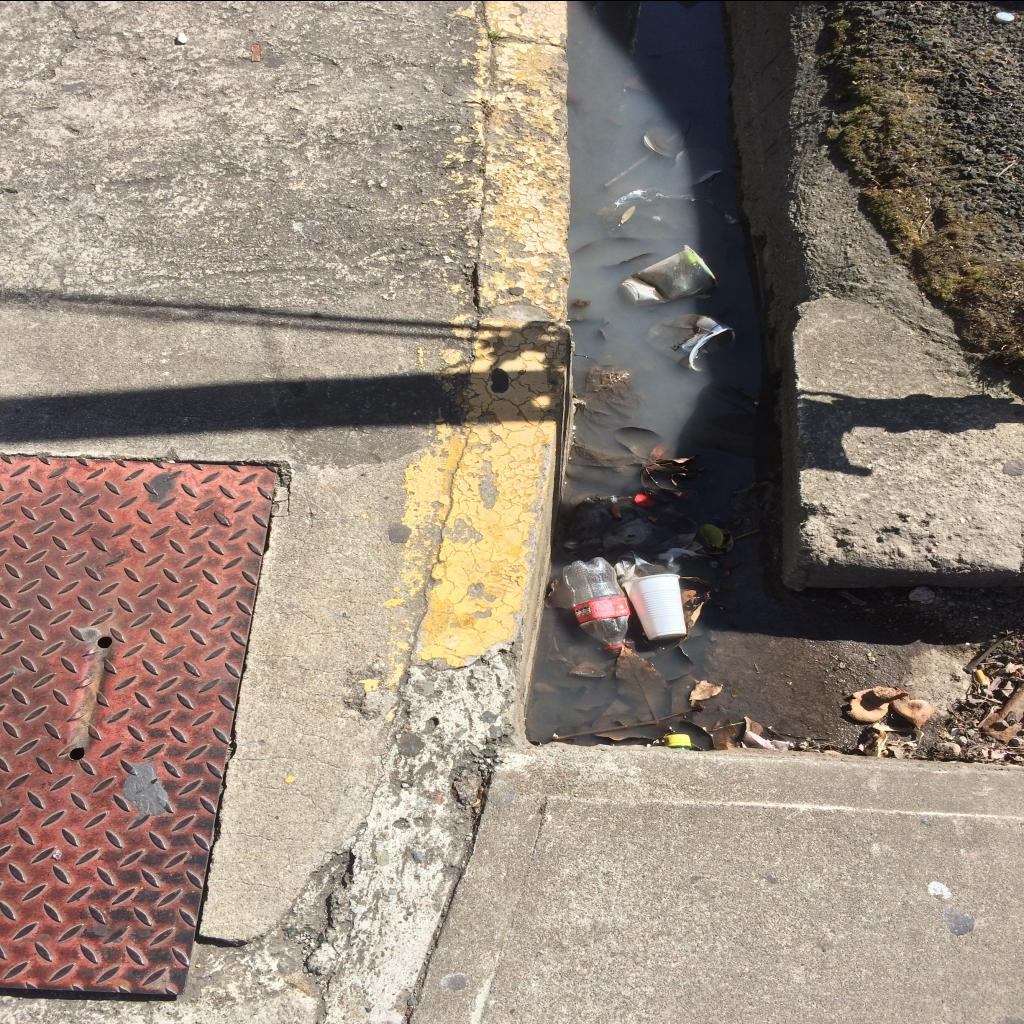Cigarette: (975, 668, 989, 684)
Clear plastic bottle: (562, 556, 630, 656)
Disposable plastic cup: (616, 244, 718, 306), (648, 312, 736, 370), (621, 573, 687, 639)
Plastic bottle cap: (634, 492, 656, 506), (664, 733, 690, 743)
Plastic lid: (643, 128, 683, 158)
Plastic straw: (604, 148, 656, 186)
Single-use carrier bag: (566, 498, 709, 582)
